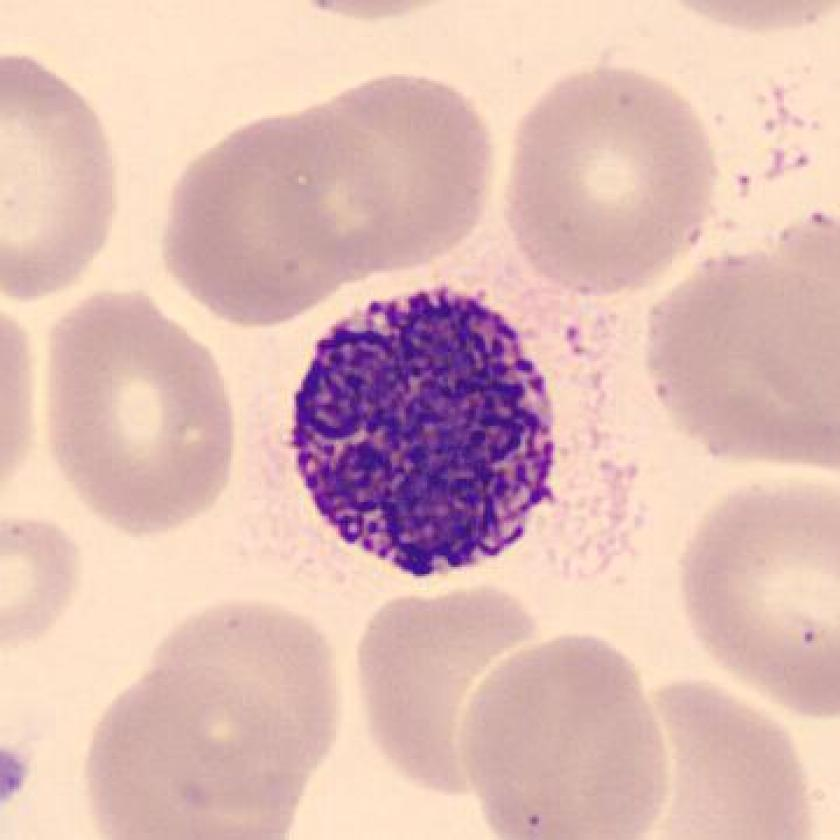basophil: (288, 270, 563, 591)
